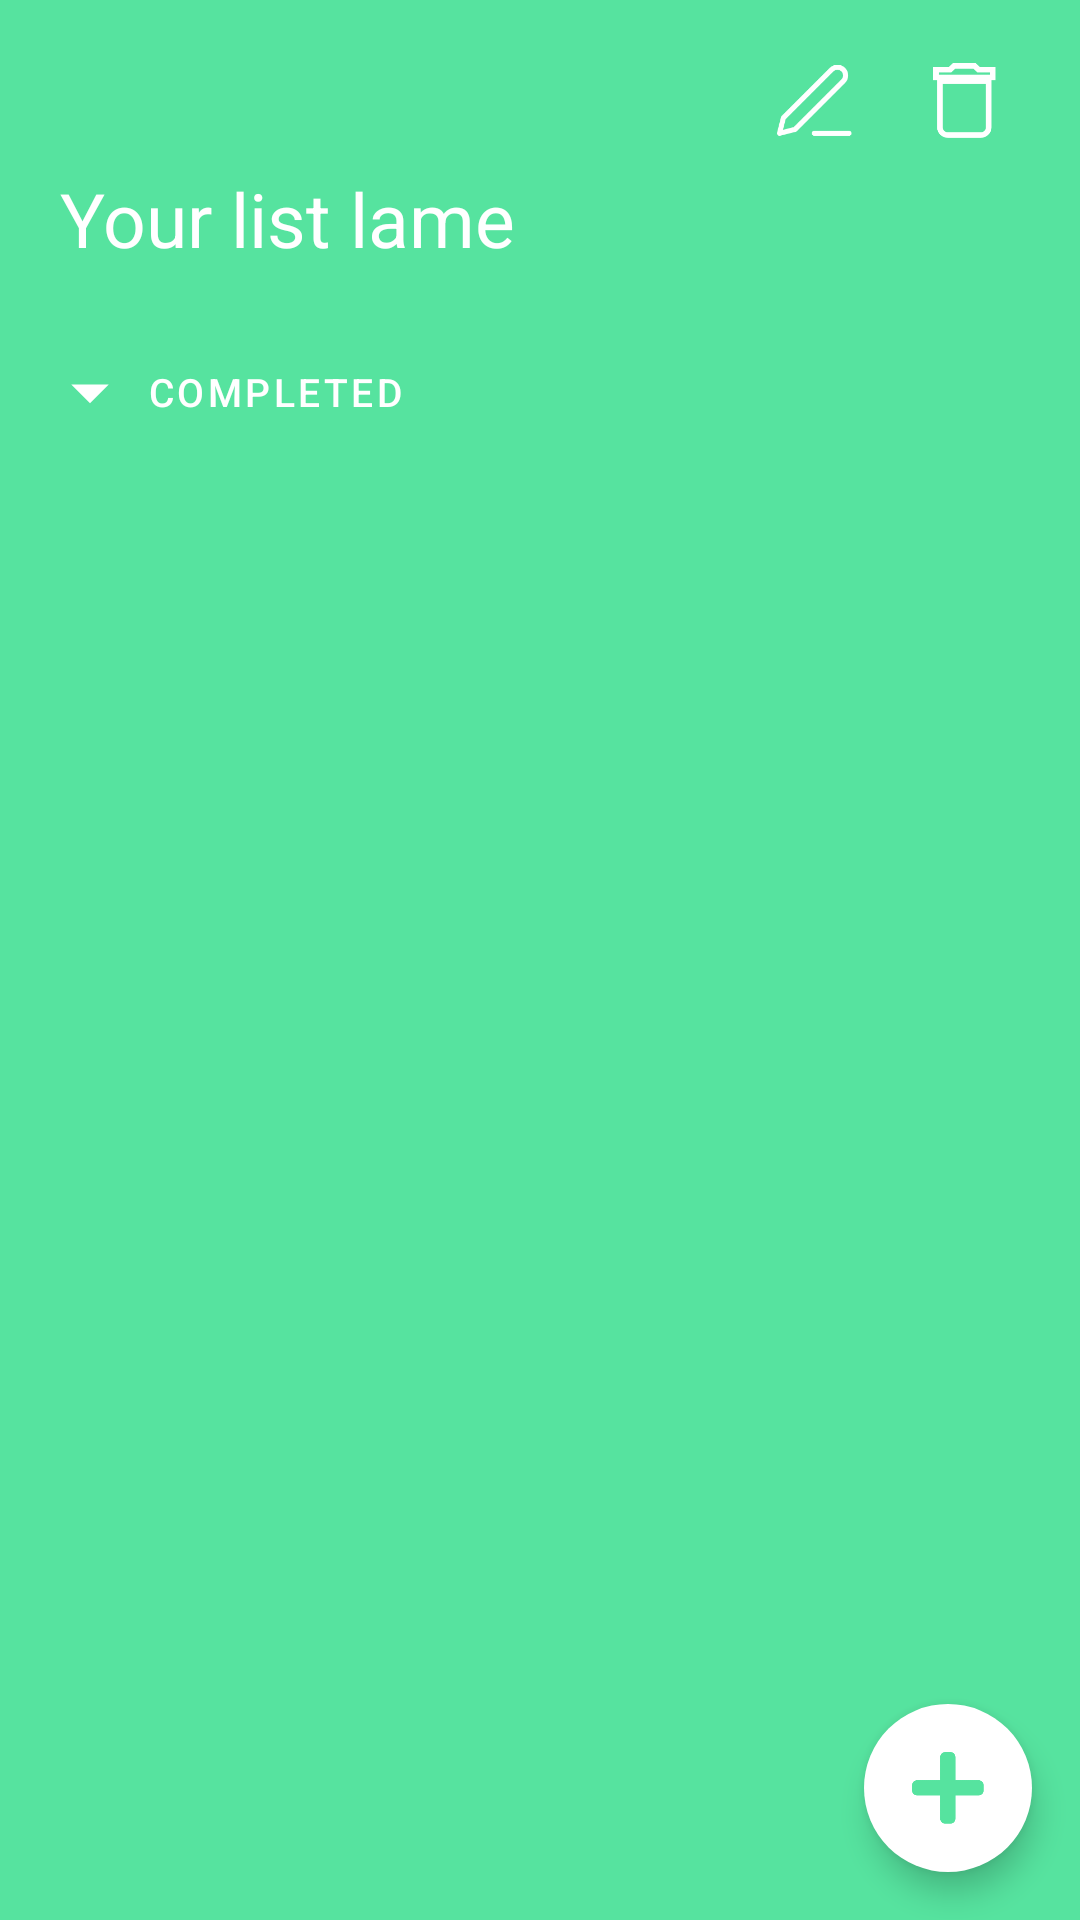

Locate icon controls on the screen. Image size 1080px x 1920px, boxes as (x1, y1, x2, y2).
add: (864, 1704, 1032, 1872)
delete: (933, 63, 996, 138)
edit: (777, 65, 852, 136)
